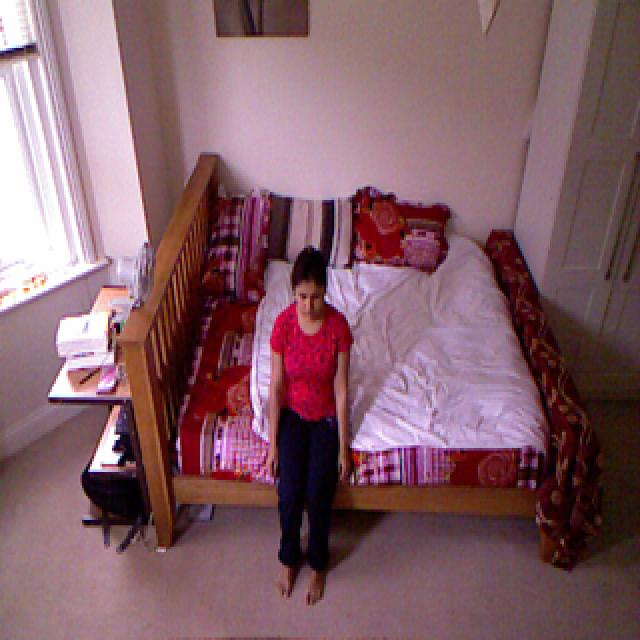sitting: (268, 249, 354, 575)
